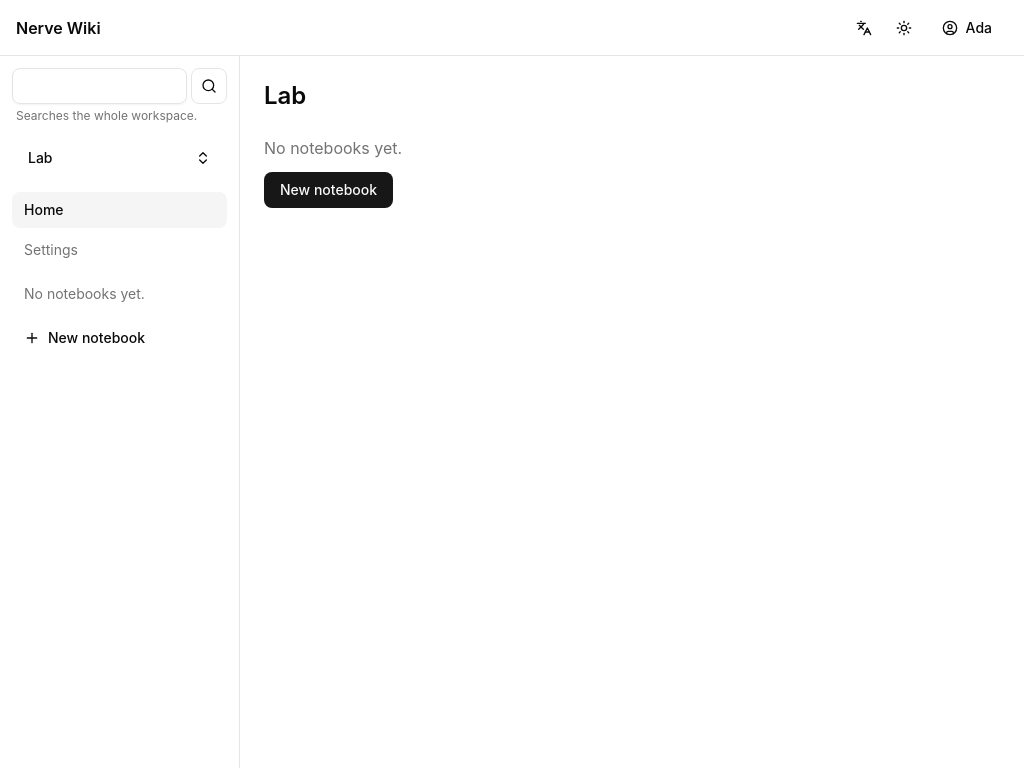
the server's invalid_format shows under the name, by a title's rules
Click the button "New notebook" below "Settings" at coordinates (120, 338), box [12, 320, 227, 356]
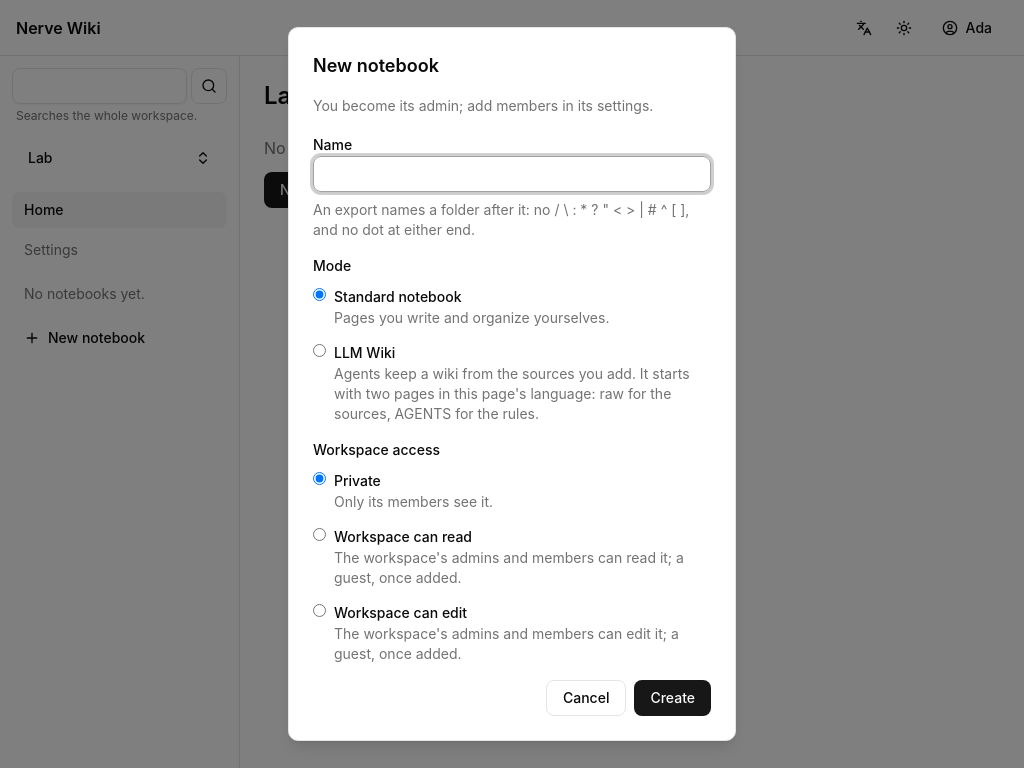
Type "CON" into the field labelled "Name" at coordinates (512, 174), box [313, 156, 711, 192]
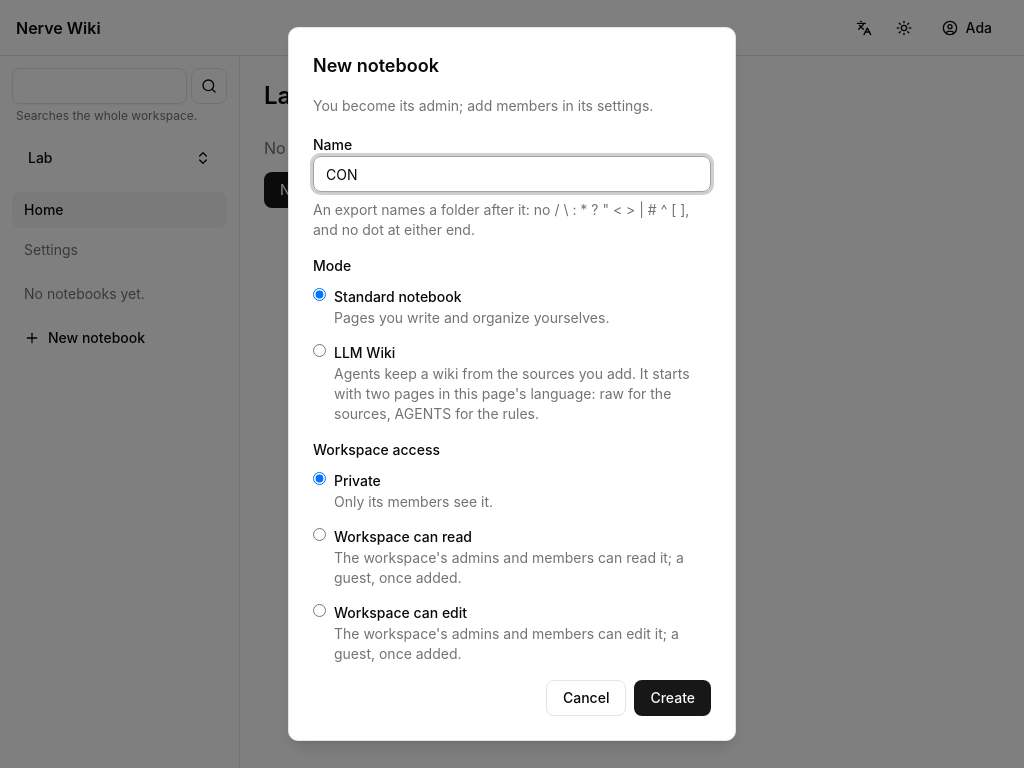
Click the button "Create" at coordinates (673, 698), box [634, 680, 711, 716]
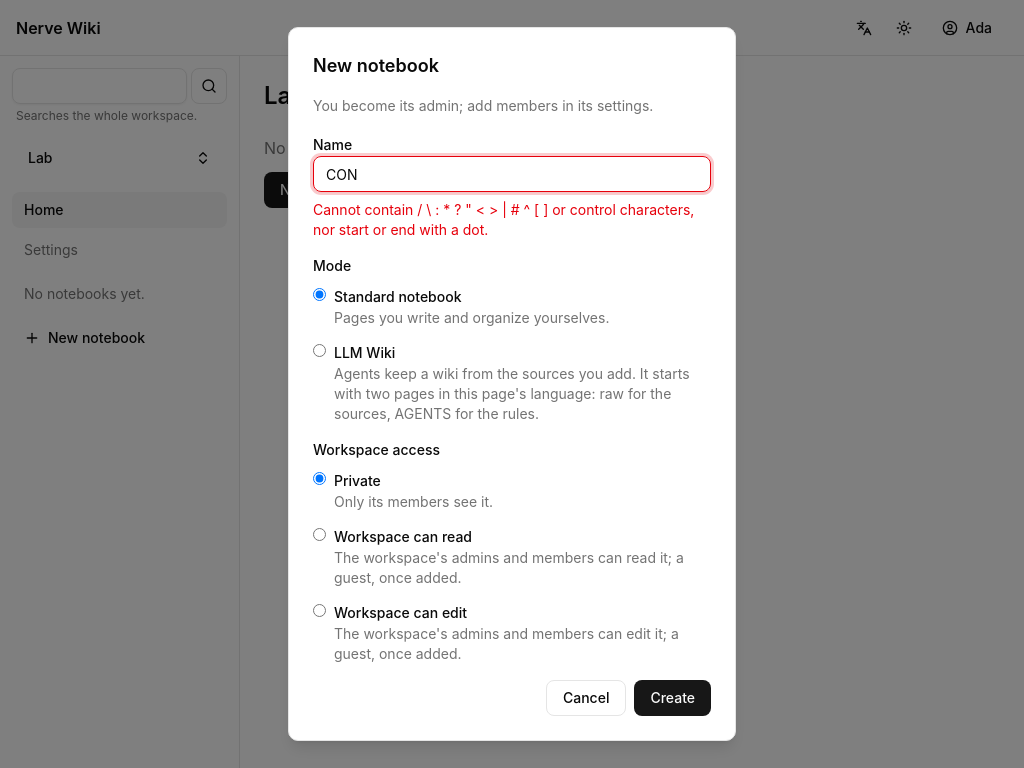
Result: the text "Cannot contain / \\ : * ? \" < > | # ^ [ ] or control characters, nor start or end with a dot." is shown at [313, 201, 694, 238]
